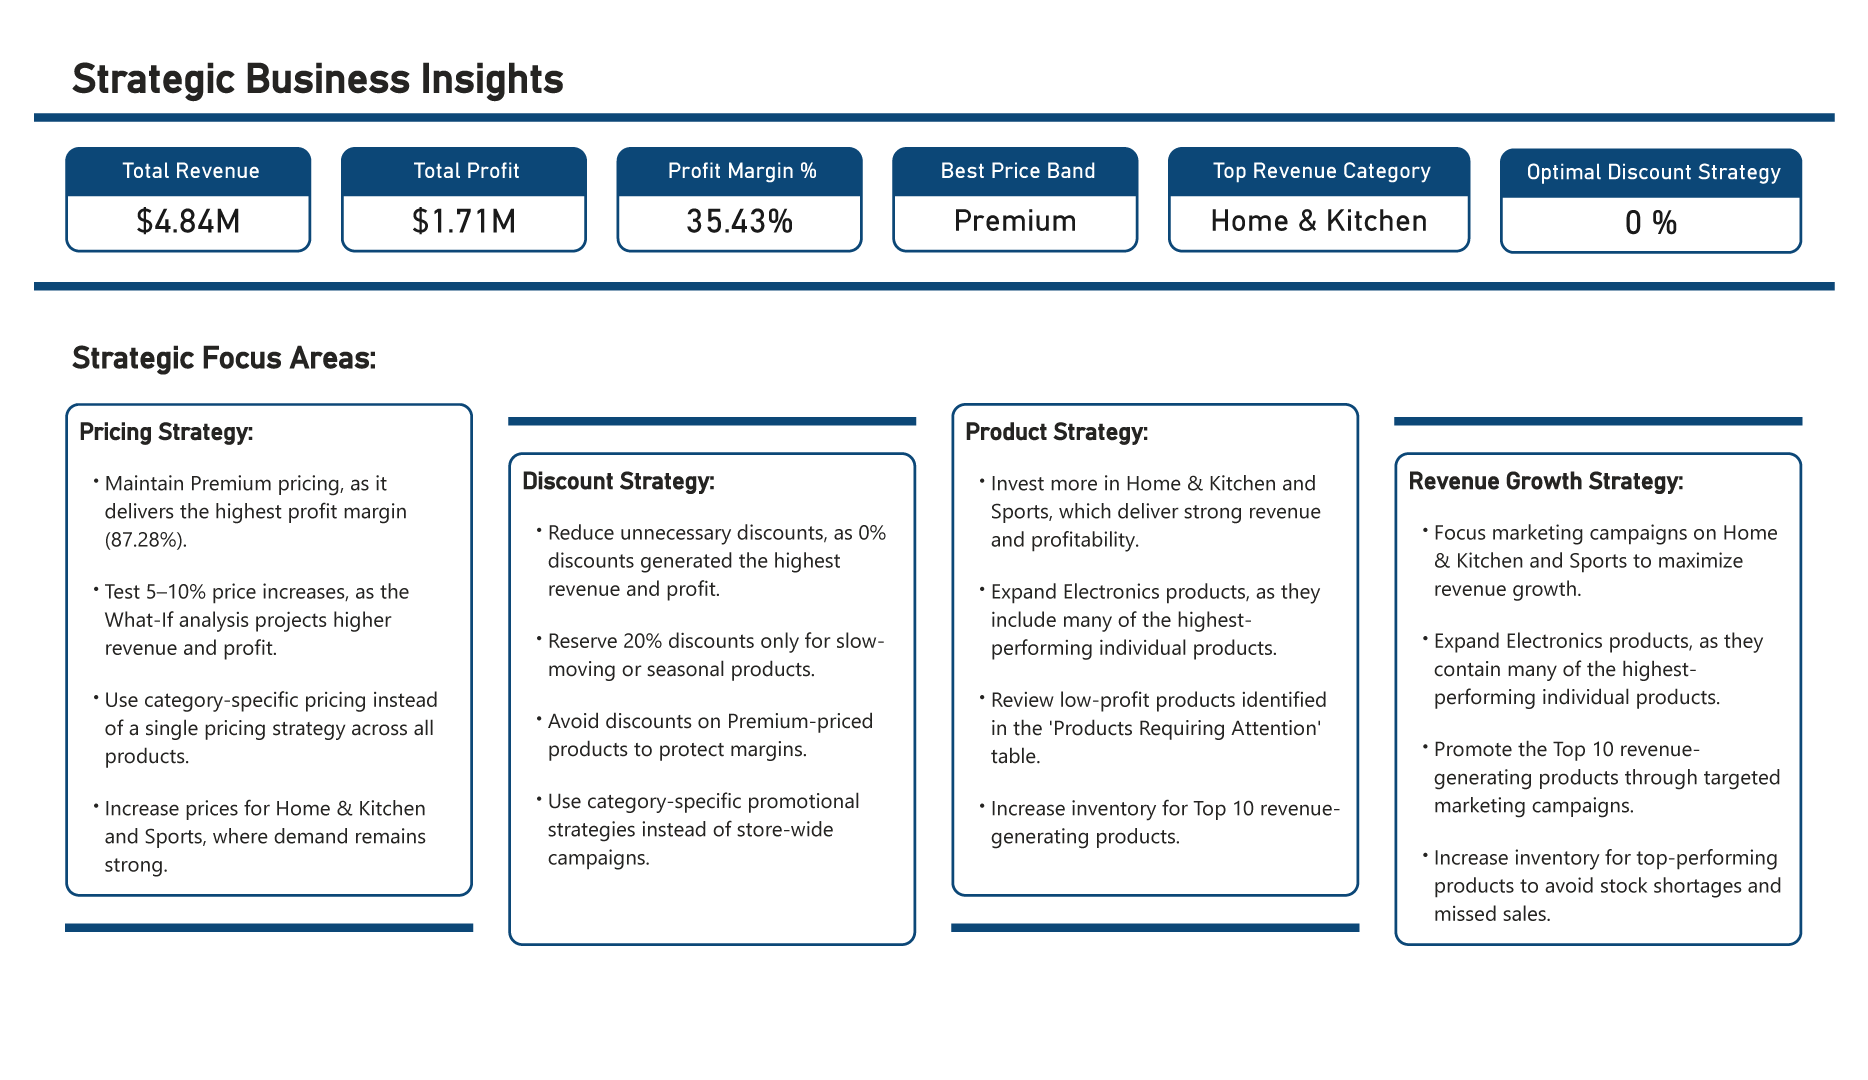

What the dashboard file says about the page in this screenshot:
{"tool":"powerbi","page":{"name":"6 - Strategic Business Insights","canvas":[1280,720],"ordinal":5},"visuals":[{"type":"textbox","box":[22,9,859,50],"z":0},{"type":"shape","box":[0,46,1280,26],"z":1000},{"type":"card","title":"Total Revenue","fields":{"Values":["Measures_Table.KPI - Total_Revenue"]},"box":[22,80,175,75],"z":2000},{"type":"textbox","box":[22,262,290,351],"z":3000},{"type":"card","title":"Total Profit","fields":{"Values":["Measures_Table.KPI - Total_profit"]},"box":[218,80,175,75],"z":4000},{"type":"card","title":"Profit Margin %","fields":{"Values":["Measures_Table.Pricing - Margin%"]},"box":[414,80,175,75],"z":5000},{"type":"card","title":"Top Revenue Category","fields":{"Values":["Measures_Table.KPI - Highest Revenue Category"]},"box":[806,80,215,75],"z":6000},{"type":"card","title":"Optimal Discount Strategy","fields":{"Values":["Measures_Table.KPI - Optimal Discount"]},"box":[1042,81,215,75],"z":7000},{"type":"card","title":"Best Price Band","fields":{"Values":["Measures_Table.KPI - Best Price Band"]},"box":[610,80,175,75],"z":8000},{"type":"textbox","box":[22,212,383,50],"z":9000},{"type":"textbox","box":[337,297,290,351],"z":10000},{"type":"textbox","box":[652,262,290,351],"z":11000},{"type":"textbox","box":[967,297,290,351],"z":12000},{"type":"shape","box":[0,166,1280,26],"z":13000},{"type":"shape","box":[337,262,290,26],"z":14000},{"type":"shape","box":[652,622,290,26],"z":15000},{"type":"shape","box":[22,622,290,26],"z":16000},{"type":"shape","box":[967,262,290,26],"z":17000}]}

Visuals, with their boxes in screenshot pixels (x1, y1, x2, y2), scaled from the page's 1280x720 canvas onto the 1868x1080 screenshot:
textbox: 32/14/1286/88
shape: 0/69/1867/108
"Total Revenue" card: 32/120/287/232
textbox: 32/393/455/920
"Total Profit" card: 318/120/574/232
"Profit Margin %" card: 604/120/860/232
"Top Revenue Category" card: 1176/120/1490/232
"Optimal Discount Strategy" card: 1521/122/1834/234
"Best Price Band" card: 890/120/1146/232
textbox: 32/318/591/393
textbox: 492/446/915/972
textbox: 952/393/1375/920
textbox: 1411/446/1834/972
shape: 0/249/1867/288
shape: 492/393/915/432
shape: 952/933/1375/972
shape: 32/933/455/972
shape: 1411/393/1834/432
